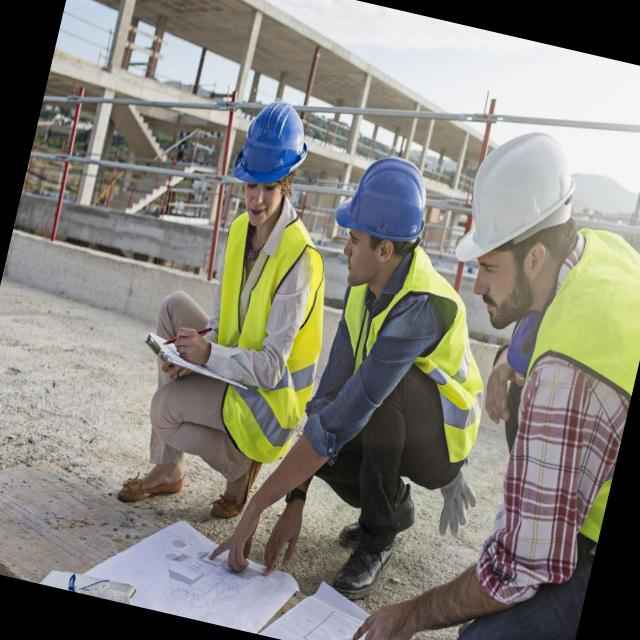helmet: (450, 113, 584, 277), (331, 150, 440, 244), (230, 91, 311, 200)
vest: (185, 205, 342, 450)
